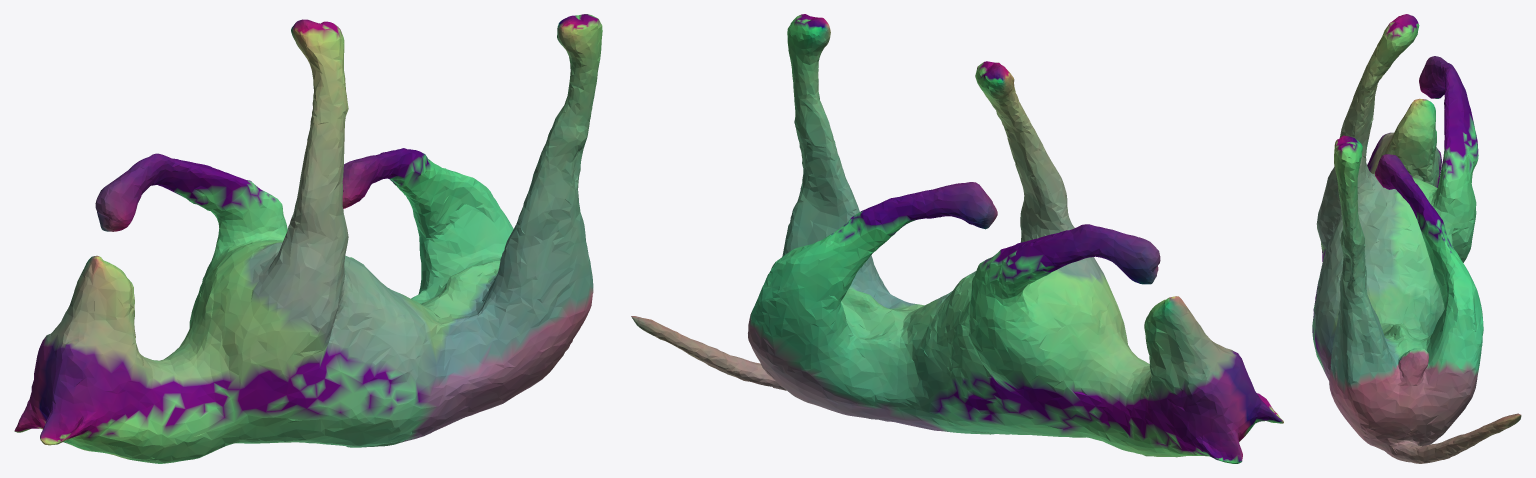
The model's file is dog2-19.off.obj.
3 renders of one model, left to right at view 1: azimuth 30°, elevation 25°; view 2: azimuth 150°, elevation 25°; view 3: azimuth 270°, elevation 25°, orthographic. The views are drawn at different scales.
Size of the model in its own units: 1.63 by 1.05 by 0.5533.
